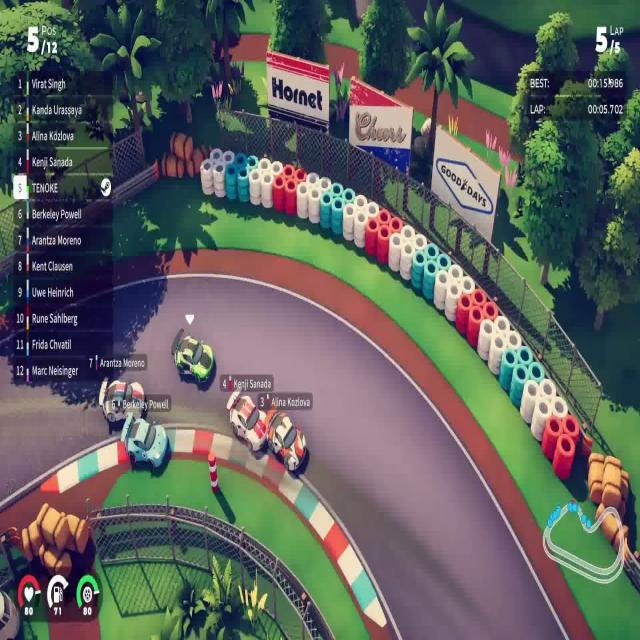car: (226, 388, 276, 454), (121, 413, 168, 471), (266, 410, 307, 473), (99, 376, 147, 426), (173, 332, 214, 384)
